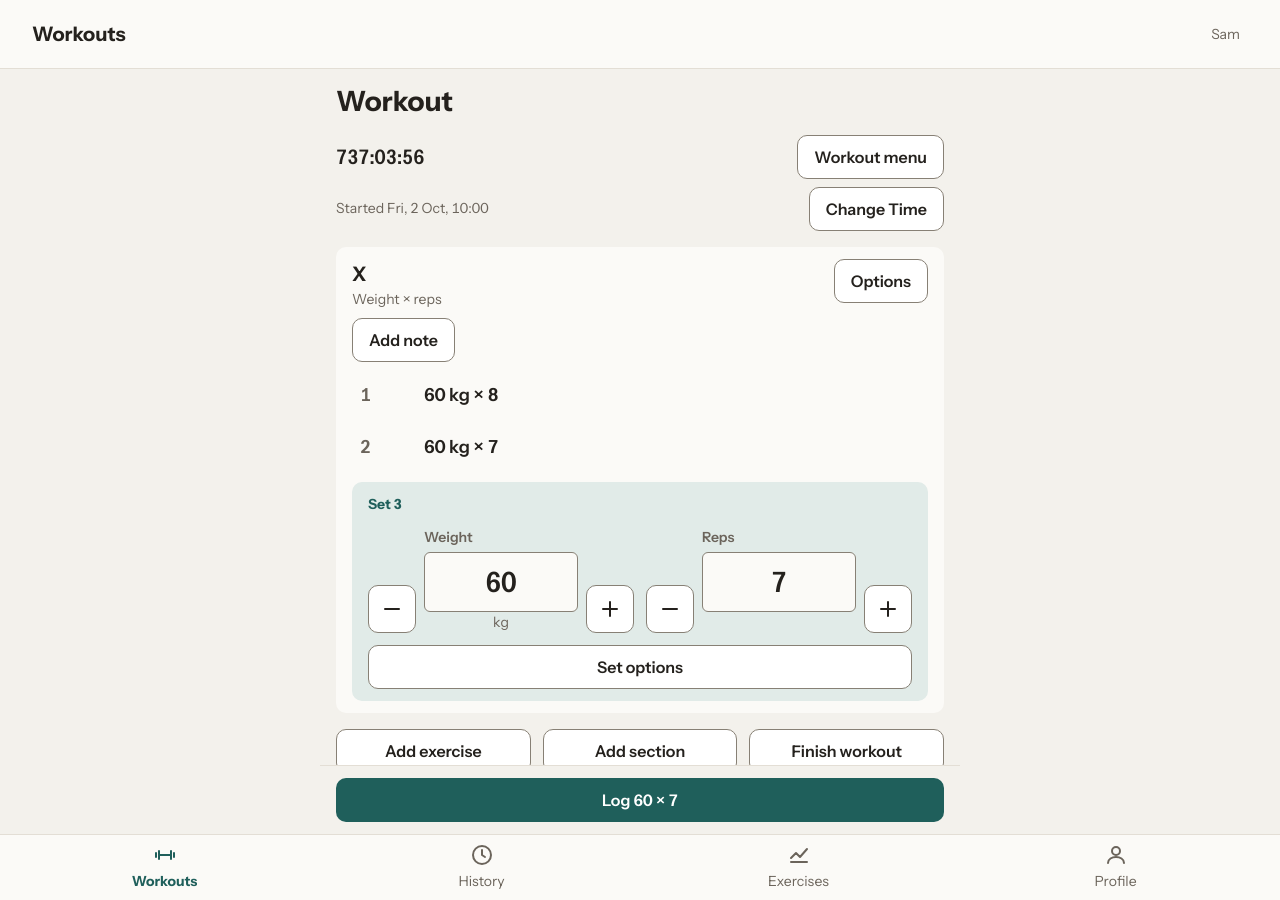
AC25 — edit and delete a logged set › tapping a row opens a sheet titled with the set number and exercise, fields prefilled
The width and height of the screenshot is (1280, 900).
Expected: the heading "Workout" is shown, [336, 84, 453, 118]
Step 1. Click the button "1 60 kg × 8" → [461, 395], box [352, 374, 928, 418]
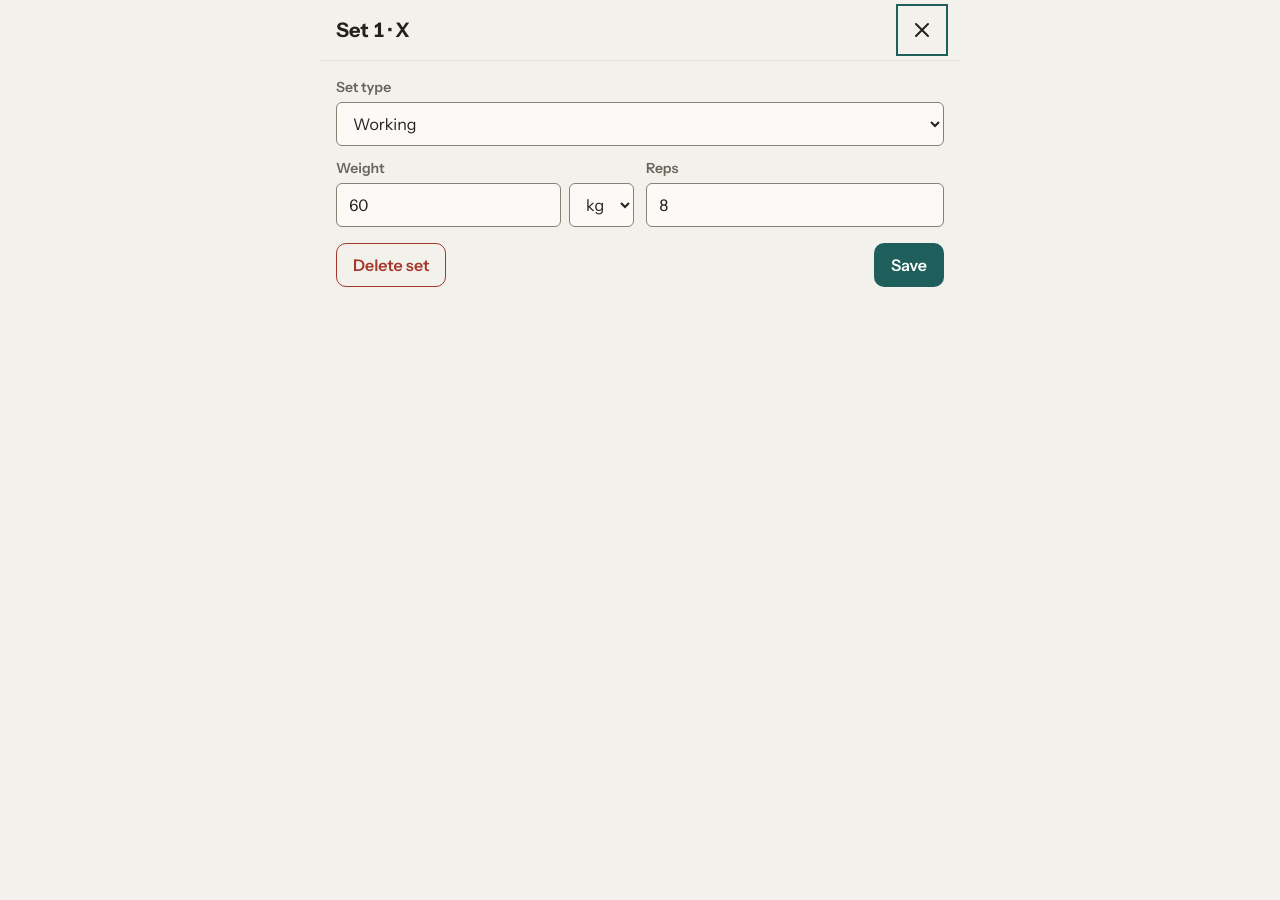
Expected: the field labelled "Weight" holds "60", [336, 183, 561, 227]
Expected: the field labelled "Reps" holds "8", [646, 183, 944, 227]
Expected: the dropdown named "Weight unit" shows "kg", [569, 183, 634, 227]
